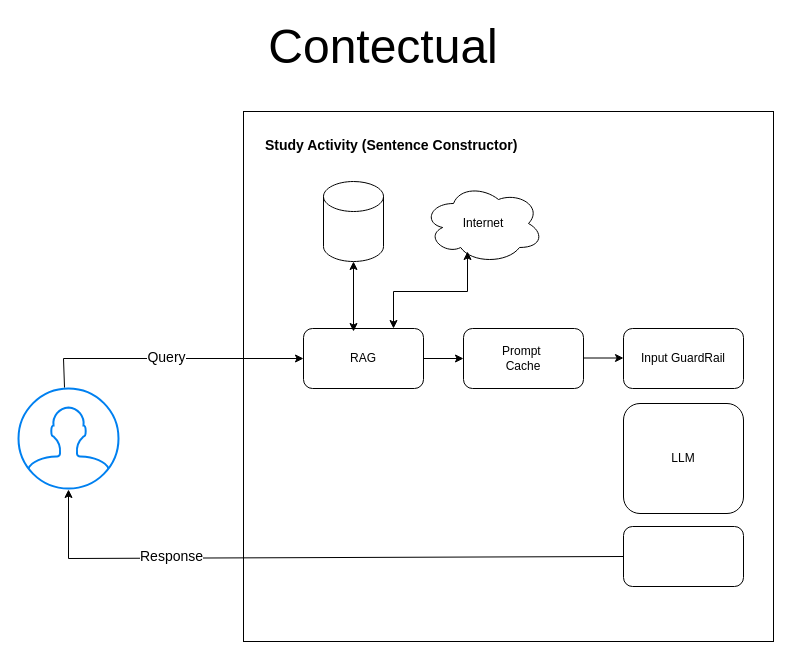
Some shapes in this 791 by 659 pixel diagram are drawn without their labels. The shapes that lost their labels are listed below. From the top down, each one's box as (x1, y1, x2, y2) in pixels, then its label:
(322, 180, 384, 262): Vector Database
(622, 526, 744, 586): Output GuardRail
